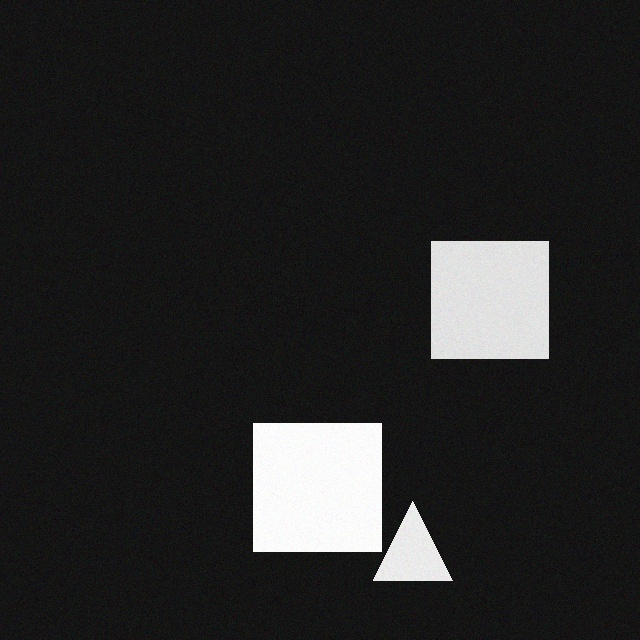square: (250, 417, 378, 545), (428, 235, 545, 352)
triangle: (370, 495, 449, 574)
